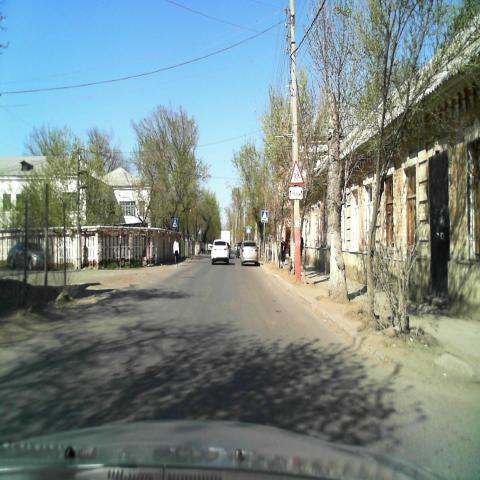8_2_1: (289, 186, 303, 200)
